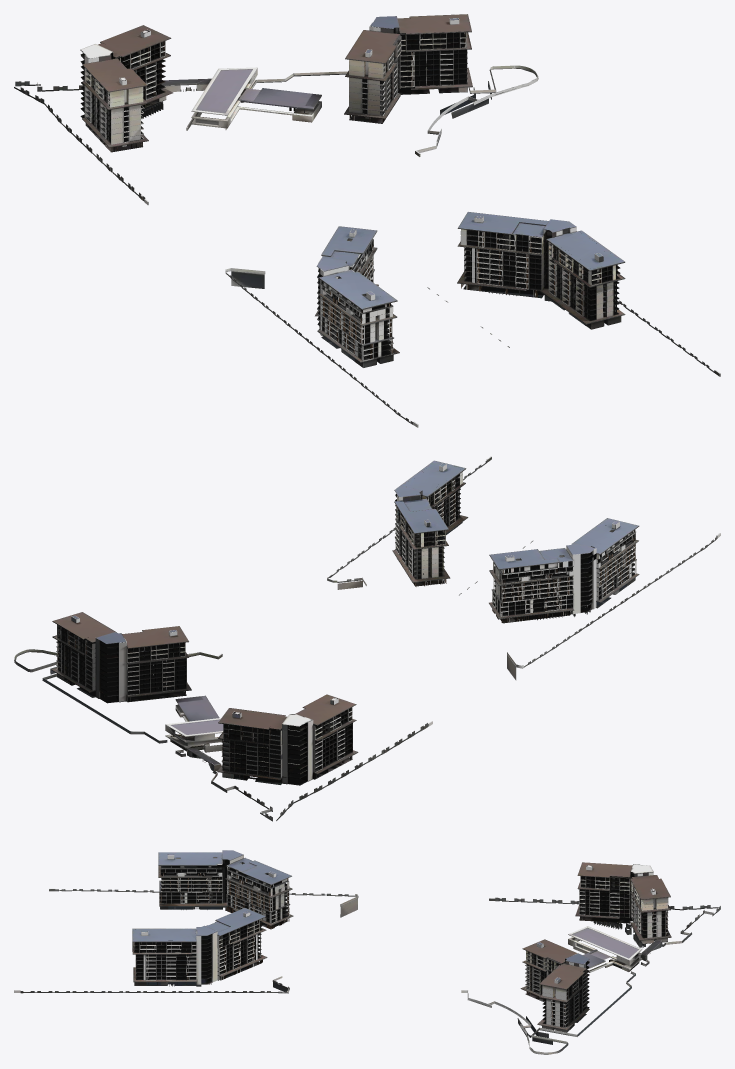
The model's file is Yaafour_build_1.glb.
The picture shows the model from 3 angles, top to bottom: view 1: azimuth 30°, elevation 25°; view 2: azimuth 150°, elevation 25°; view 3: azimuth 270°, elevation 25°; orthographic projection. The views are drawn at different scales.
Visible parts, largest first — view 1: house_1; view 2: house_1; view 3: house_1.
Part boxes in pixels (x1,y1,x2,y2): house_1: [14, 14, 720, 427]; house_1: [14, 456, 720, 821]; house_1: [14, 850, 720, 1054].
Bounding box in the file's own units: 309 × 53.45 × 562.
4 materials, 4 textured.
